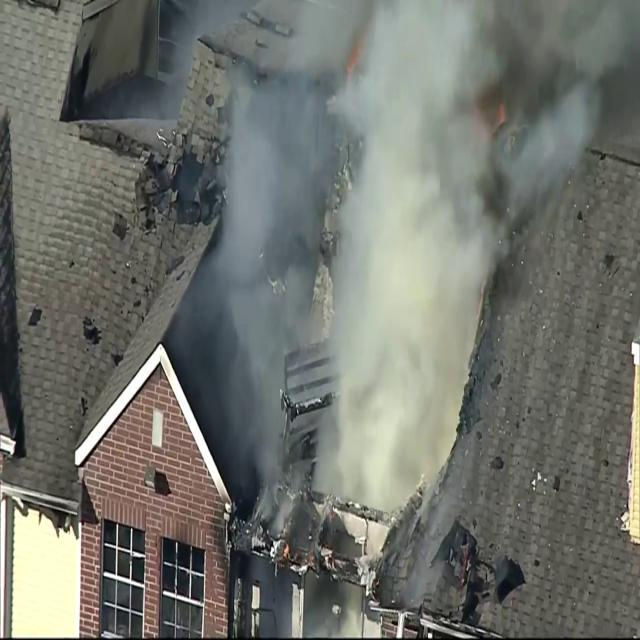Smoke: (180, 0, 496, 522), (465, 0, 640, 233)
